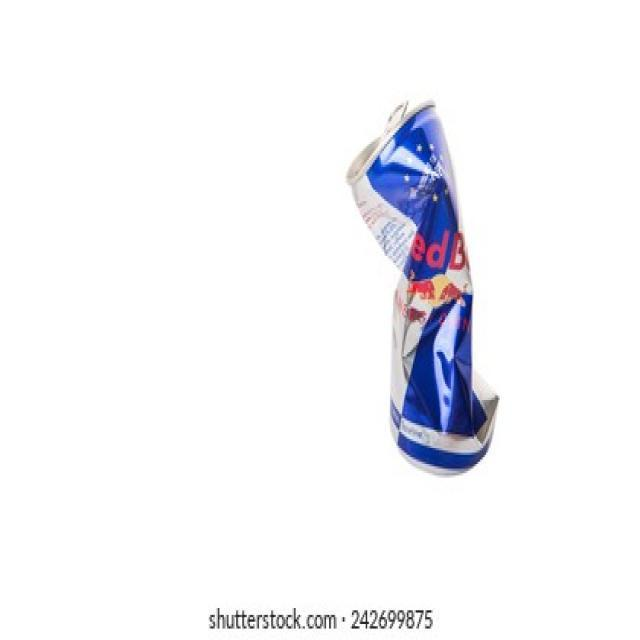metal-can: (345, 96, 498, 472)
